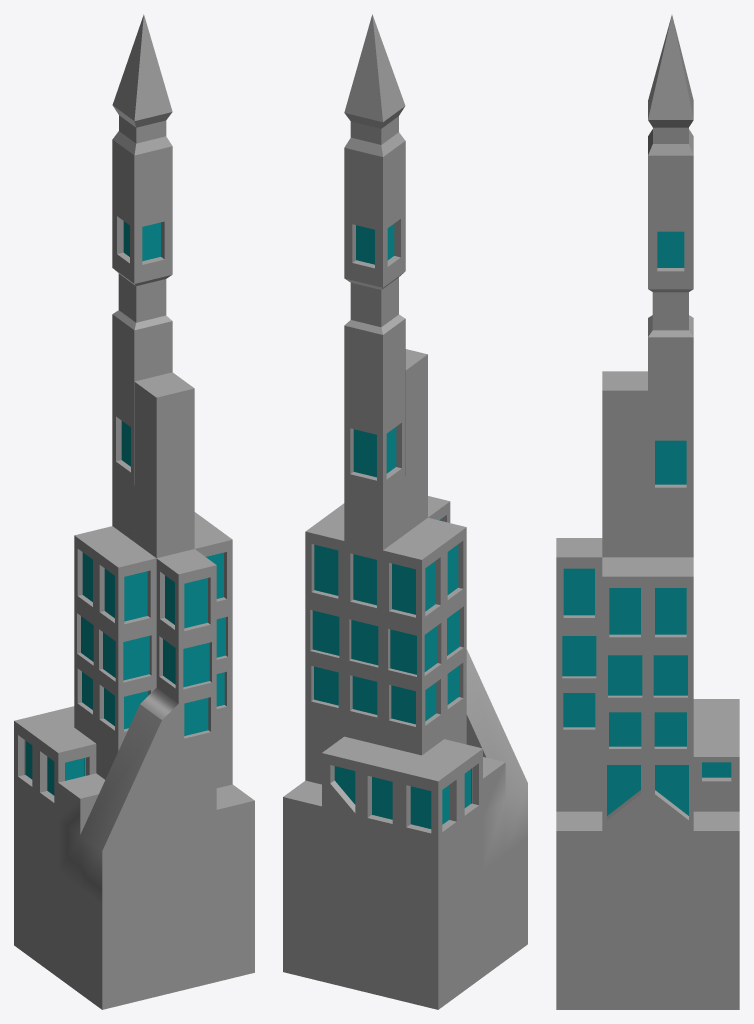
File: buildingModel2.fbx
3 renders of one model, left to right at view 1: azimuth 30°, elevation 25°; view 2: azimuth 150°, elevation 25°; view 3: azimuth 270°, elevation 25°, orthographic. The views are drawn at different scales.
Parts seen in each view (by area): view 1: pCube1; view 2: pCube1; view 3: pCube1.
Boxes of the visible parts, left/top/right/bottom form: pCube1: left=14, top=14, right=254, bottom=1009; pCube1: left=283, top=14, right=527, bottom=1009; pCube1: left=556, top=15, right=739, bottom=1009.
Size of the model in its own units: 33.01 by 193 by 33.01.
